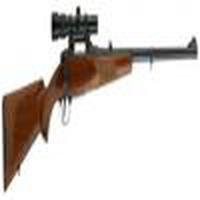gun: (2, 45, 200, 161)
